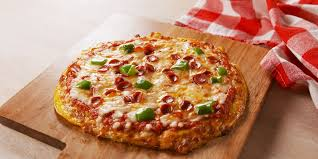pizza: (83, 33, 245, 151)
